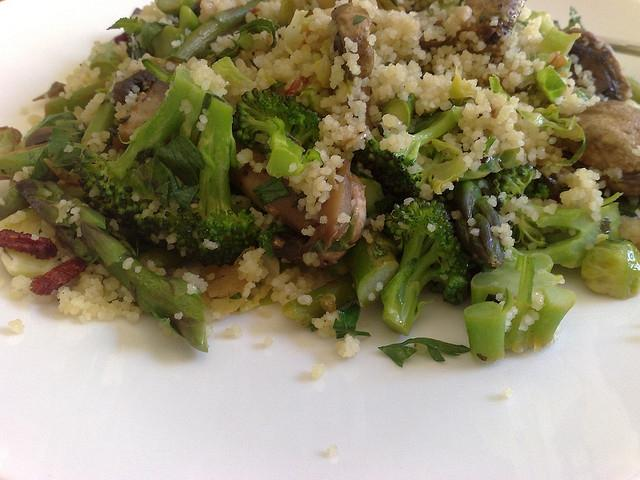broccoli: (71, 64, 262, 268), (381, 197, 472, 336), (353, 103, 465, 198), (232, 88, 321, 179), (514, 202, 622, 264), (177, 0, 259, 60), (344, 224, 399, 308), (281, 272, 357, 328), (582, 237, 640, 300), (481, 164, 536, 211), (4, 143, 49, 178), (534, 26, 582, 56), (382, 93, 416, 131), (471, 271, 506, 304), (538, 67, 566, 105)
brussels sprouts: (343, 232, 399, 308), (581, 237, 640, 300), (0, 144, 47, 177), (535, 66, 567, 104)
mushroom: (550, 100, 640, 174), (564, 27, 632, 102), (118, 80, 170, 142), (25, 126, 53, 148)
